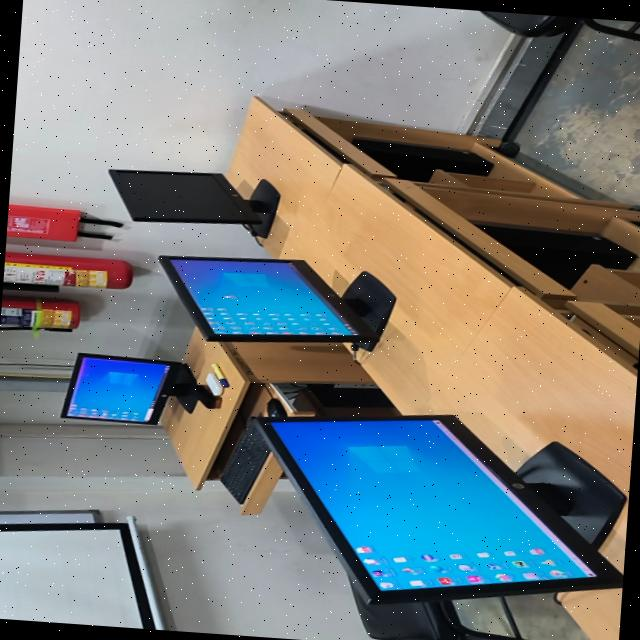Chair: (350, 587, 529, 640), (478, 10, 640, 42)
Cpu: (470, 220, 635, 288), (351, 138, 491, 182)
Fire Extinguisher: (2, 251, 131, 289), (0, 297, 78, 331)
Keyboard: (219, 418, 269, 504)
Monitor: (252, 415, 624, 604), (158, 256, 394, 351), (107, 169, 278, 238), (60, 353, 198, 425)
Mouse: (266, 398, 285, 416)
